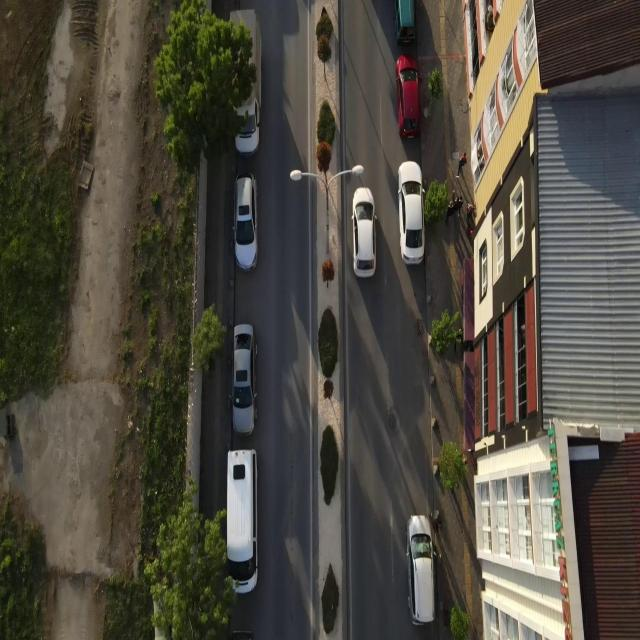p3rson: (456, 150, 468, 180), (445, 199, 455, 224), (452, 189, 460, 218), (458, 195, 463, 219)
